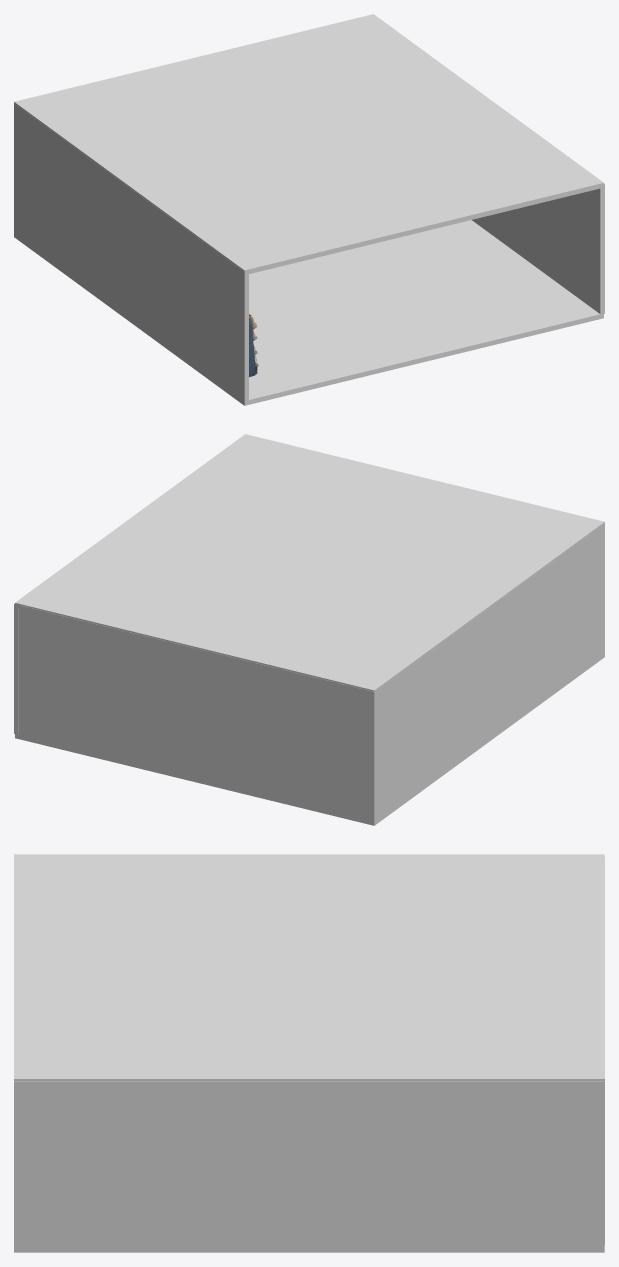
The model's file is combini-scene.glb.
3 renders of one model, top to bottom at view 1: azimuth 30°, elevation 25°; view 2: azimuth 150°, elevation 25°; view 3: azimuth 270°, elevation 25°, orthographic. The views are drawn at different scales.
Parts seen in each view (by area): view 1: Cube.004, Cube.003, Cube, Cube.002; view 2: Cube.004, Cube.001, Cube, Cube.003, Cube.002; view 3: Cube.004, Cube.002, Cube.003.
Part boxes in pixels (<box>): Cube.004: <box>14,14,603,274</box>; Cube.003: <box>14,220,603,405</box>; Cube: <box>14,103,248,401</box>; Cube.002: <box>472,183,604,314</box>; Cube.004: <box>15,434,604,693</box>; Cube.001: <box>19,605,373,821</box>; Cube: <box>374,523,604,821</box>; Cube.003: <box>15,653,604,825</box>; Cube.002: <box>14,603,18,734</box>; Cube.004: <box>14,854,604,1080</box>; Cube.002: <box>14,1081,604,1247</box>; Cube.003: <box>14,1247,604,1252</box>.
Size of the model in its own units: 2.99 by 1.07 by 3.31.
15 materials, 10 textured.
